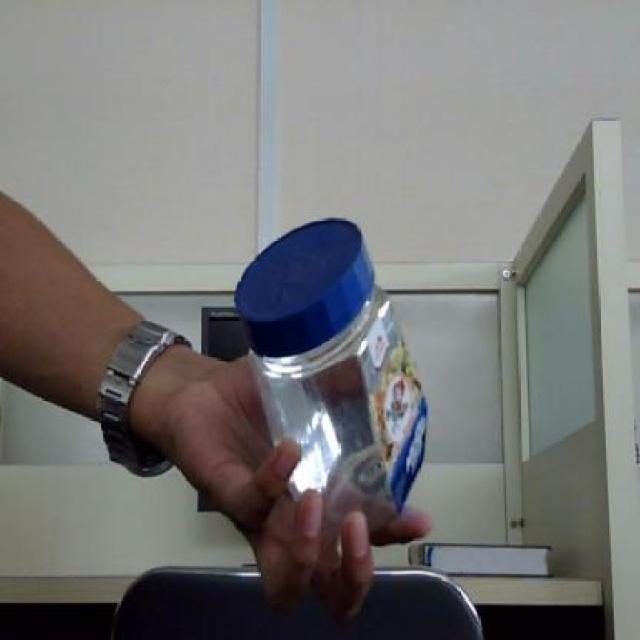Plastic: (228, 212, 436, 535)
